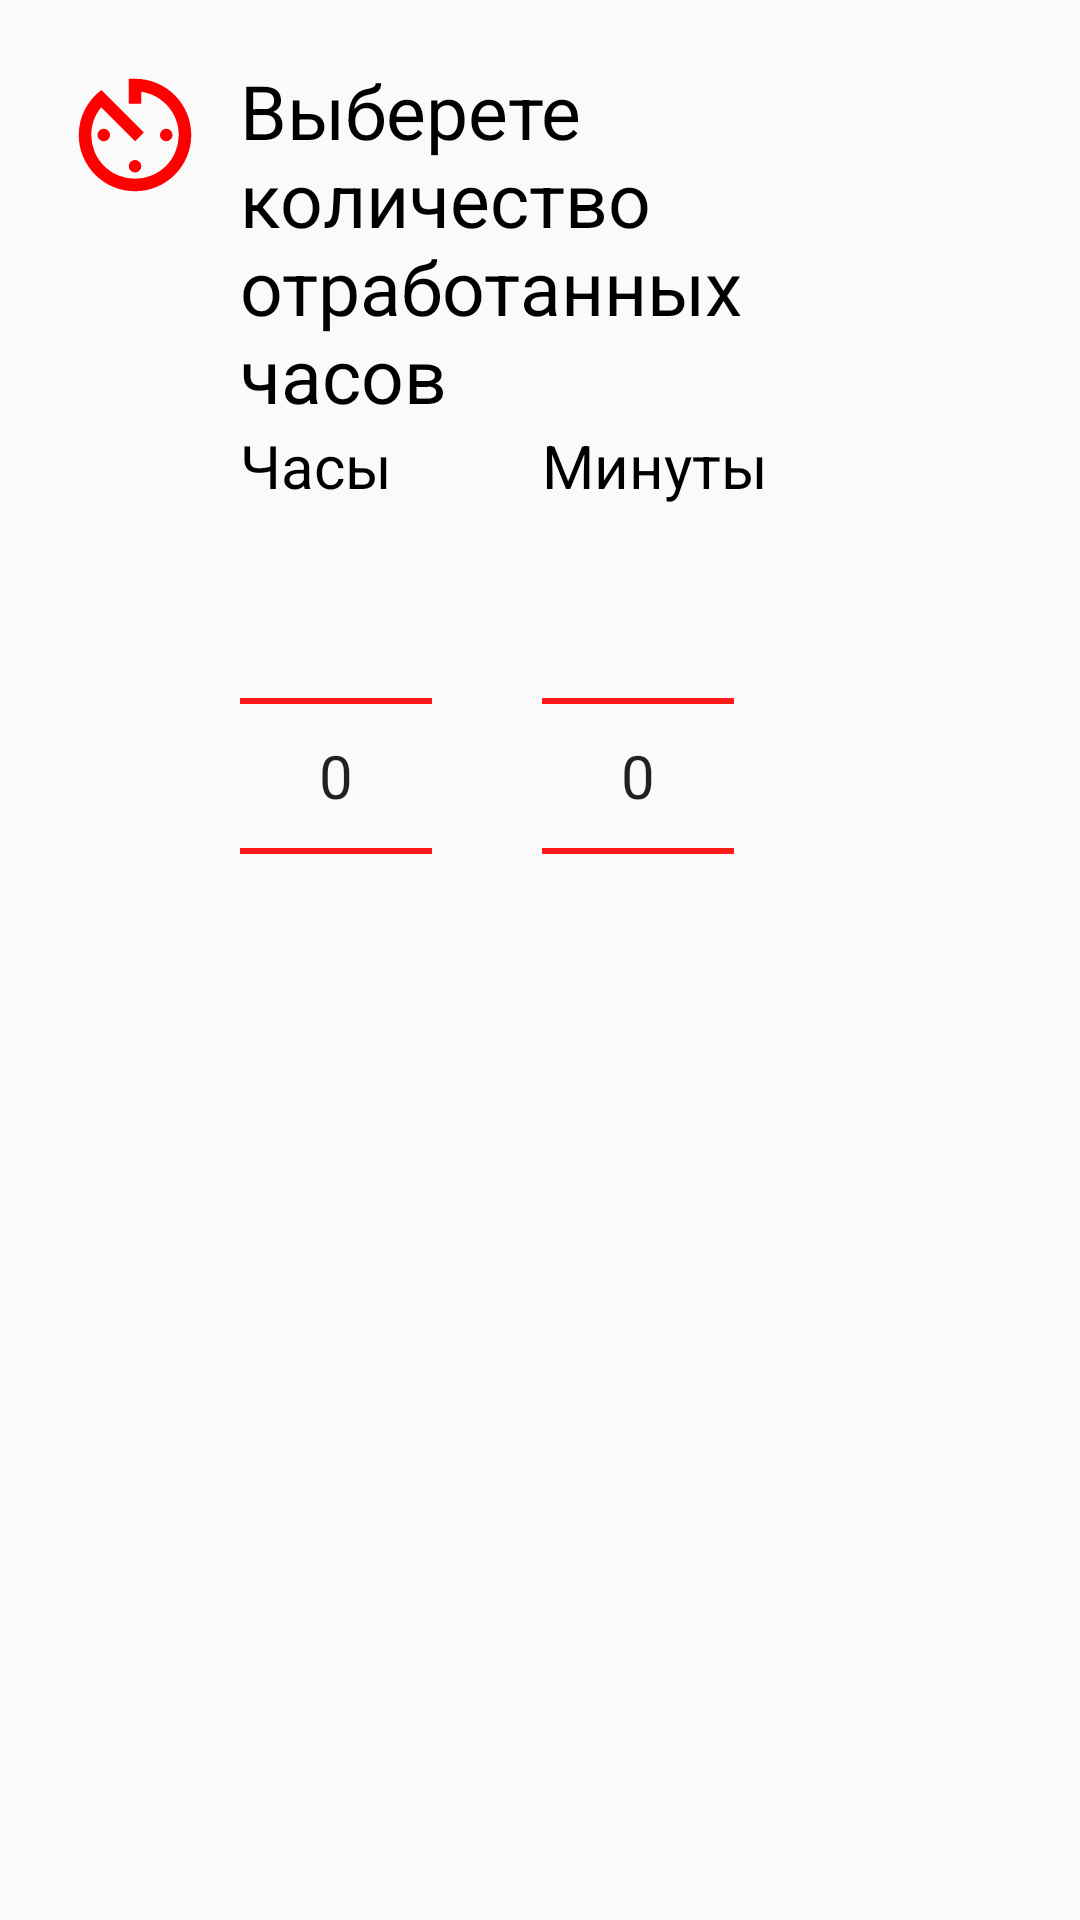

Point at icon controls on the screen. Image size 1080×1920, points as point (x, y).
timer: point (135, 135)
